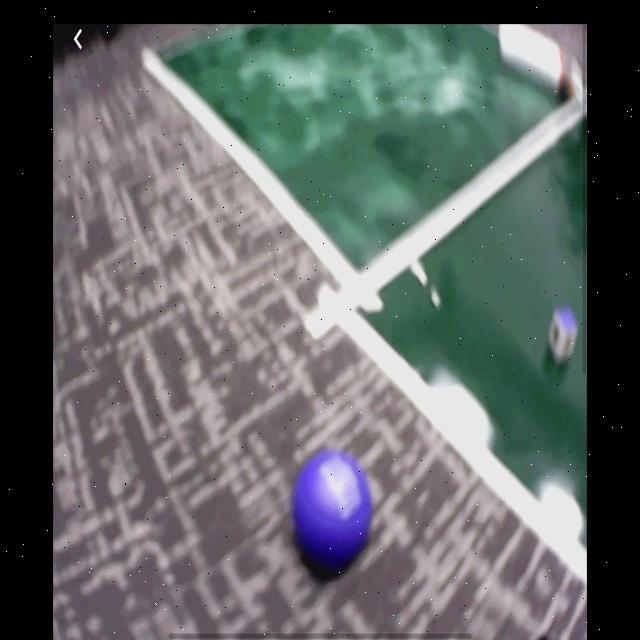ball: (293, 453, 373, 578)
